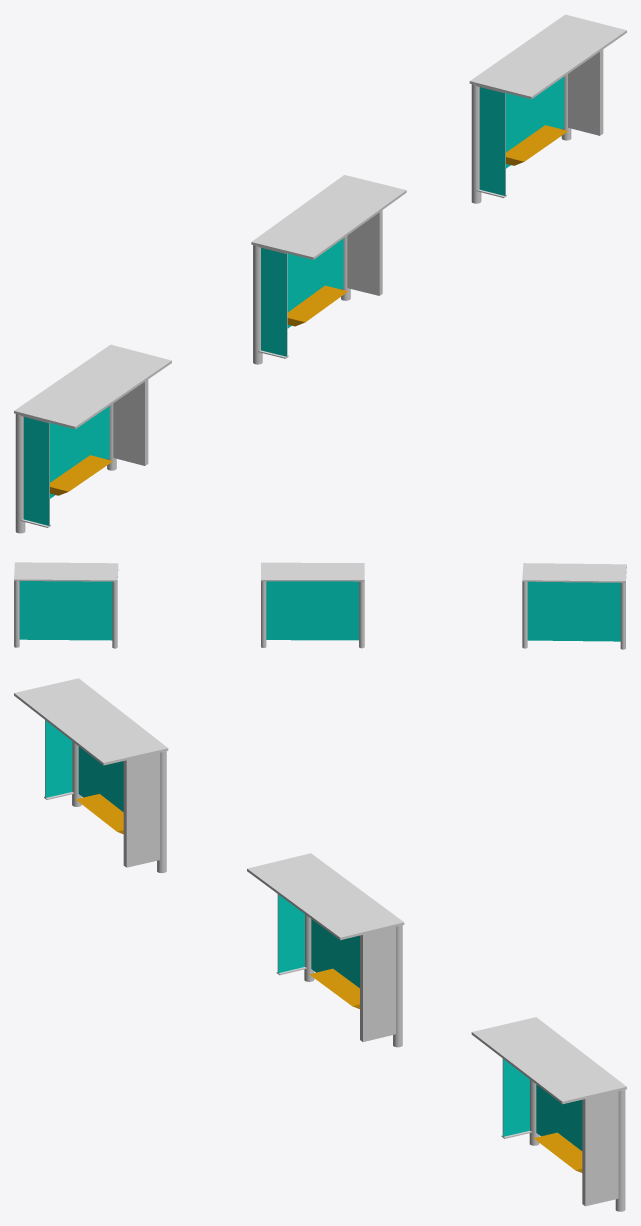
Rendered from Bus Stop.fbx.
3 views of the same model, one above another, from view 1: azimuth 30°, elevation 25°; view 2: azimuth 150°, elevation 25°; view 3: azimuth 270°, elevation 25° (orthographic). The views are drawn at different scales.
Parts seen in each view (by area): view 1: Bus Stop, Bus Stop.002, Bus Stop.001; view 2: Bus Stop.001, Bus Stop.002, Bus Stop; view 3: Bus Stop.001, Bus Stop.002, Bus Stop.
Part boxes in pixels (x1,y1,x2,y2): Bus Stop: [14, 344, 171, 533]; Bus Stop.002: [469, 14, 626, 203]; Bus Stop.001: [251, 175, 406, 364]; Bus Stop.001: [261, 562, 364, 648]; Bus Stop.002: [14, 562, 118, 648]; Bus Stop: [522, 563, 626, 649]; Bus Stop.001: [247, 853, 404, 1047]; Bus Stop.002: [471, 1017, 626, 1211]; Bus Stop: [14, 678, 168, 873].
Bounding box in the file's own units: 1425 × 194 × 872.
